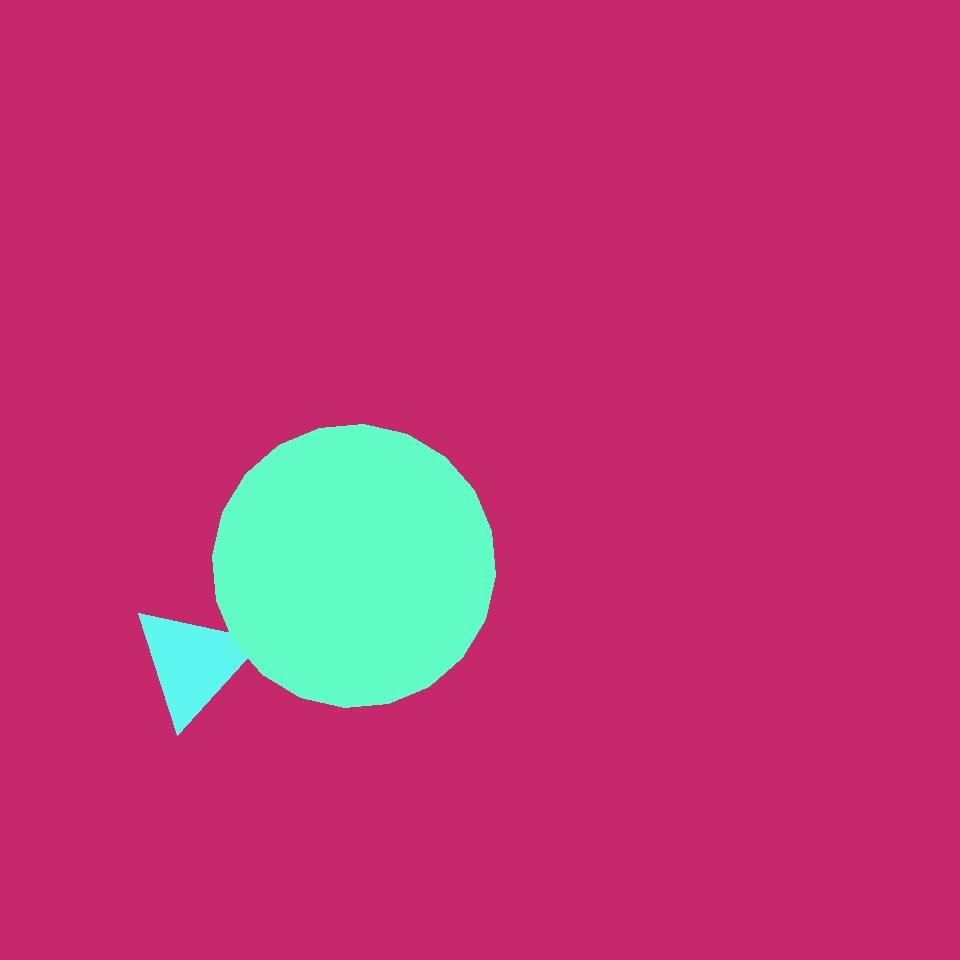circle: (130, 602, 256, 724)
triangle: (213, 424, 496, 708)
